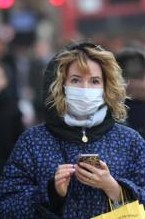with_mask: (64, 58, 110, 121)
